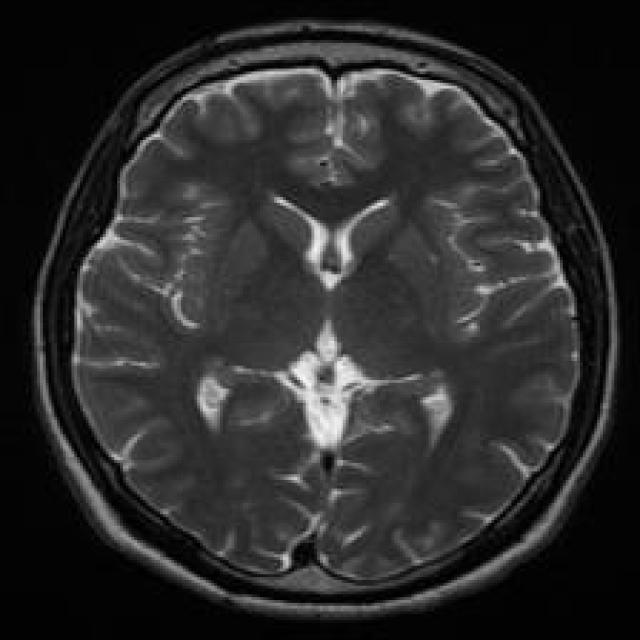no_tumor: (24, 16, 621, 630)
